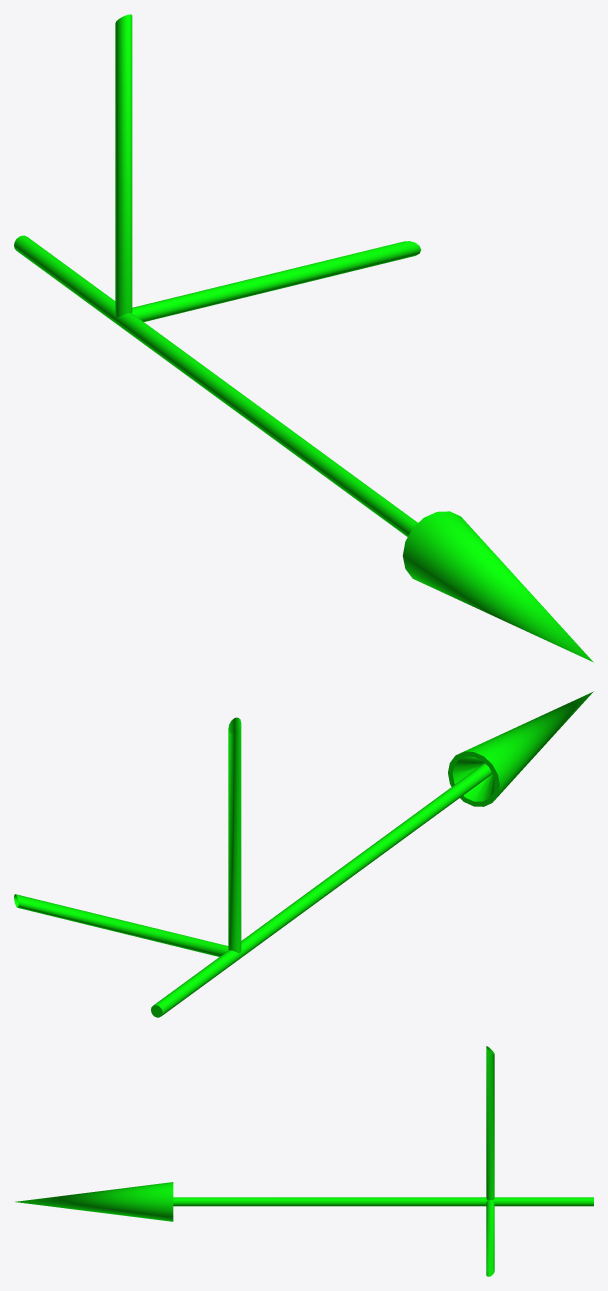
Rendered from Translate_Y.glb.
3 renders of one model, top to bottom at view 1: azimuth 30°, elevation 25°; view 2: azimuth 150°, elevation 25°; view 3: azimuth 270°, elevation 25°, orthographic. The views are drawn at different scales.
Parts seen in each view (by area): view 1: Translate_Y; view 2: Translate_Y; view 3: Translate_Y.
Boxes of the visible parts, bbox=[...] form: Translate_Y: bbox=[14, 14, 593, 662]; Translate_Y: bbox=[14, 691, 593, 1017]; Translate_Y: bbox=[15, 1046, 593, 1276].
Size of the model in its own units: 0.0449 by 0.0449 by 0.1359.
